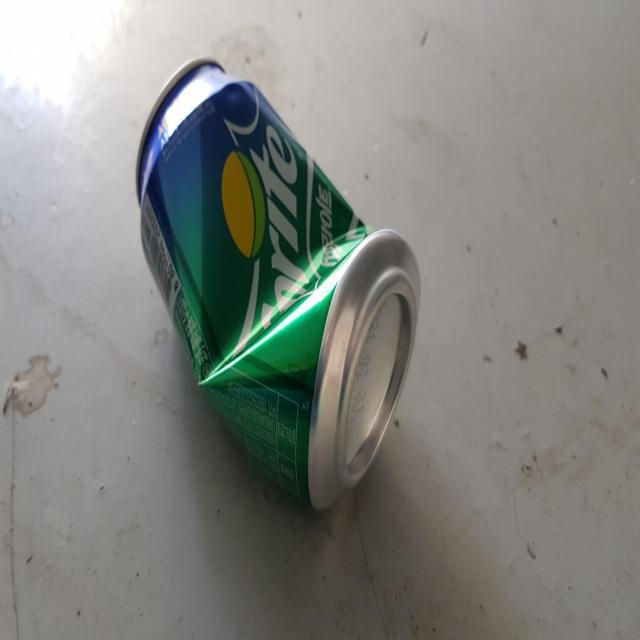can: (136, 57, 421, 509)
